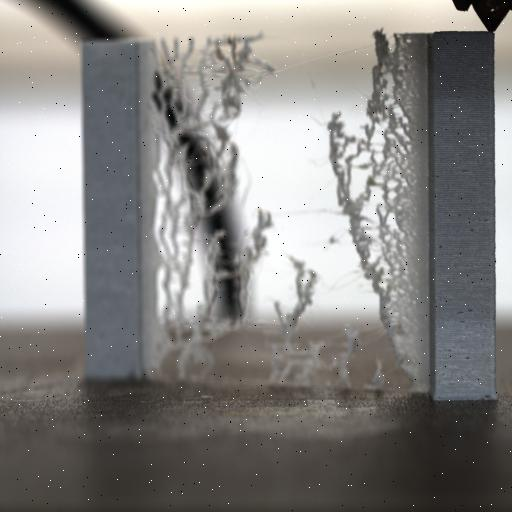stringing: (148, 34, 274, 338), (322, 30, 419, 386)
